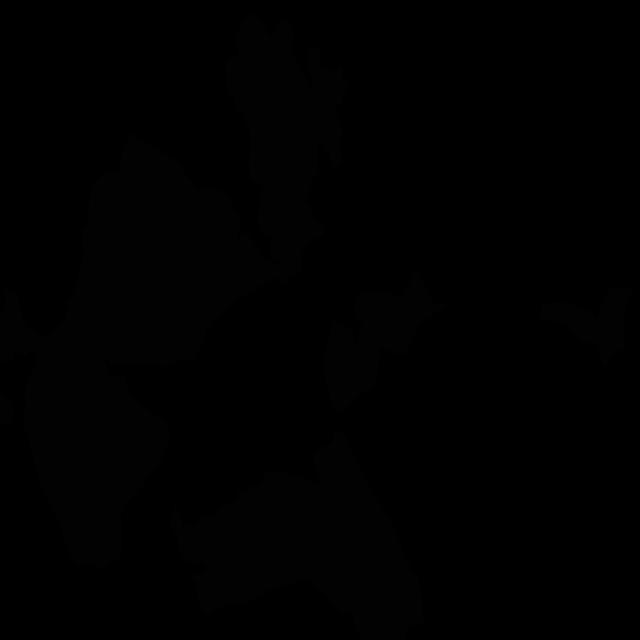cardboard: (169, 431, 424, 640), (64, 133, 284, 367), (24, 307, 170, 570), (225, 13, 348, 285), (324, 271, 448, 413), (540, 287, 632, 368), (0, 289, 50, 365), (0, 389, 13, 426)
